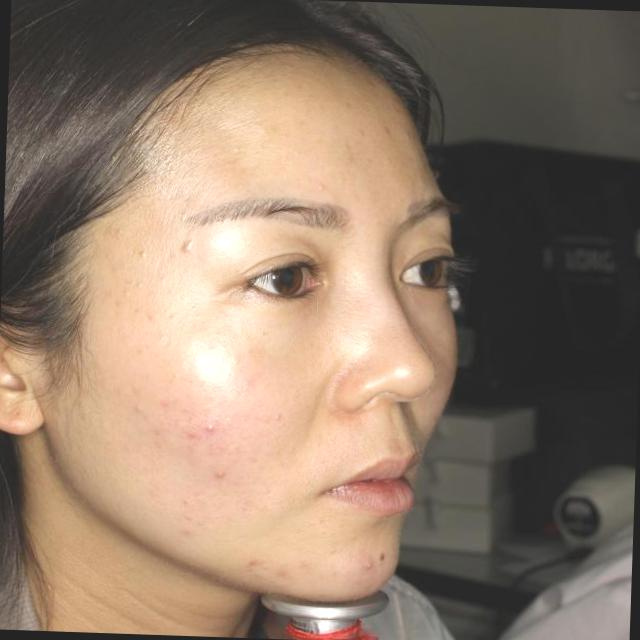acne: (207, 461, 241, 500), (188, 416, 228, 442), (266, 562, 294, 590), (360, 552, 383, 582)
